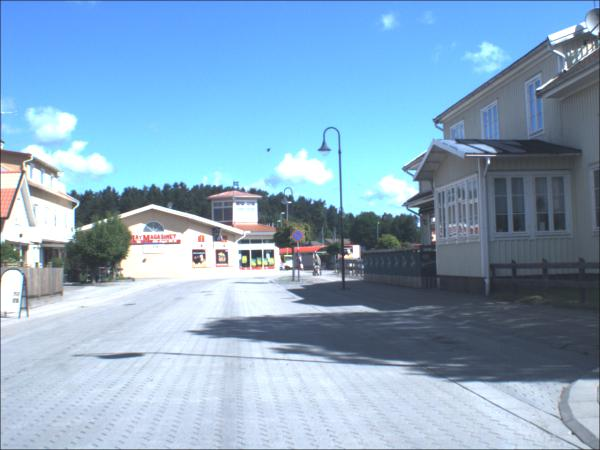NO_PARKING: (291, 228, 307, 245)
